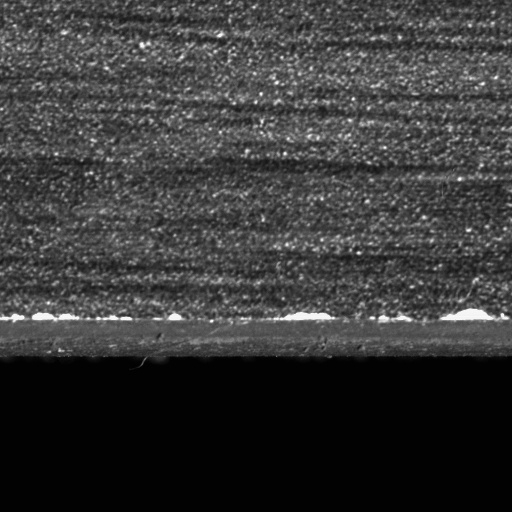huashang: (445, 305, 494, 323), (282, 310, 338, 321), (32, 311, 78, 320)
